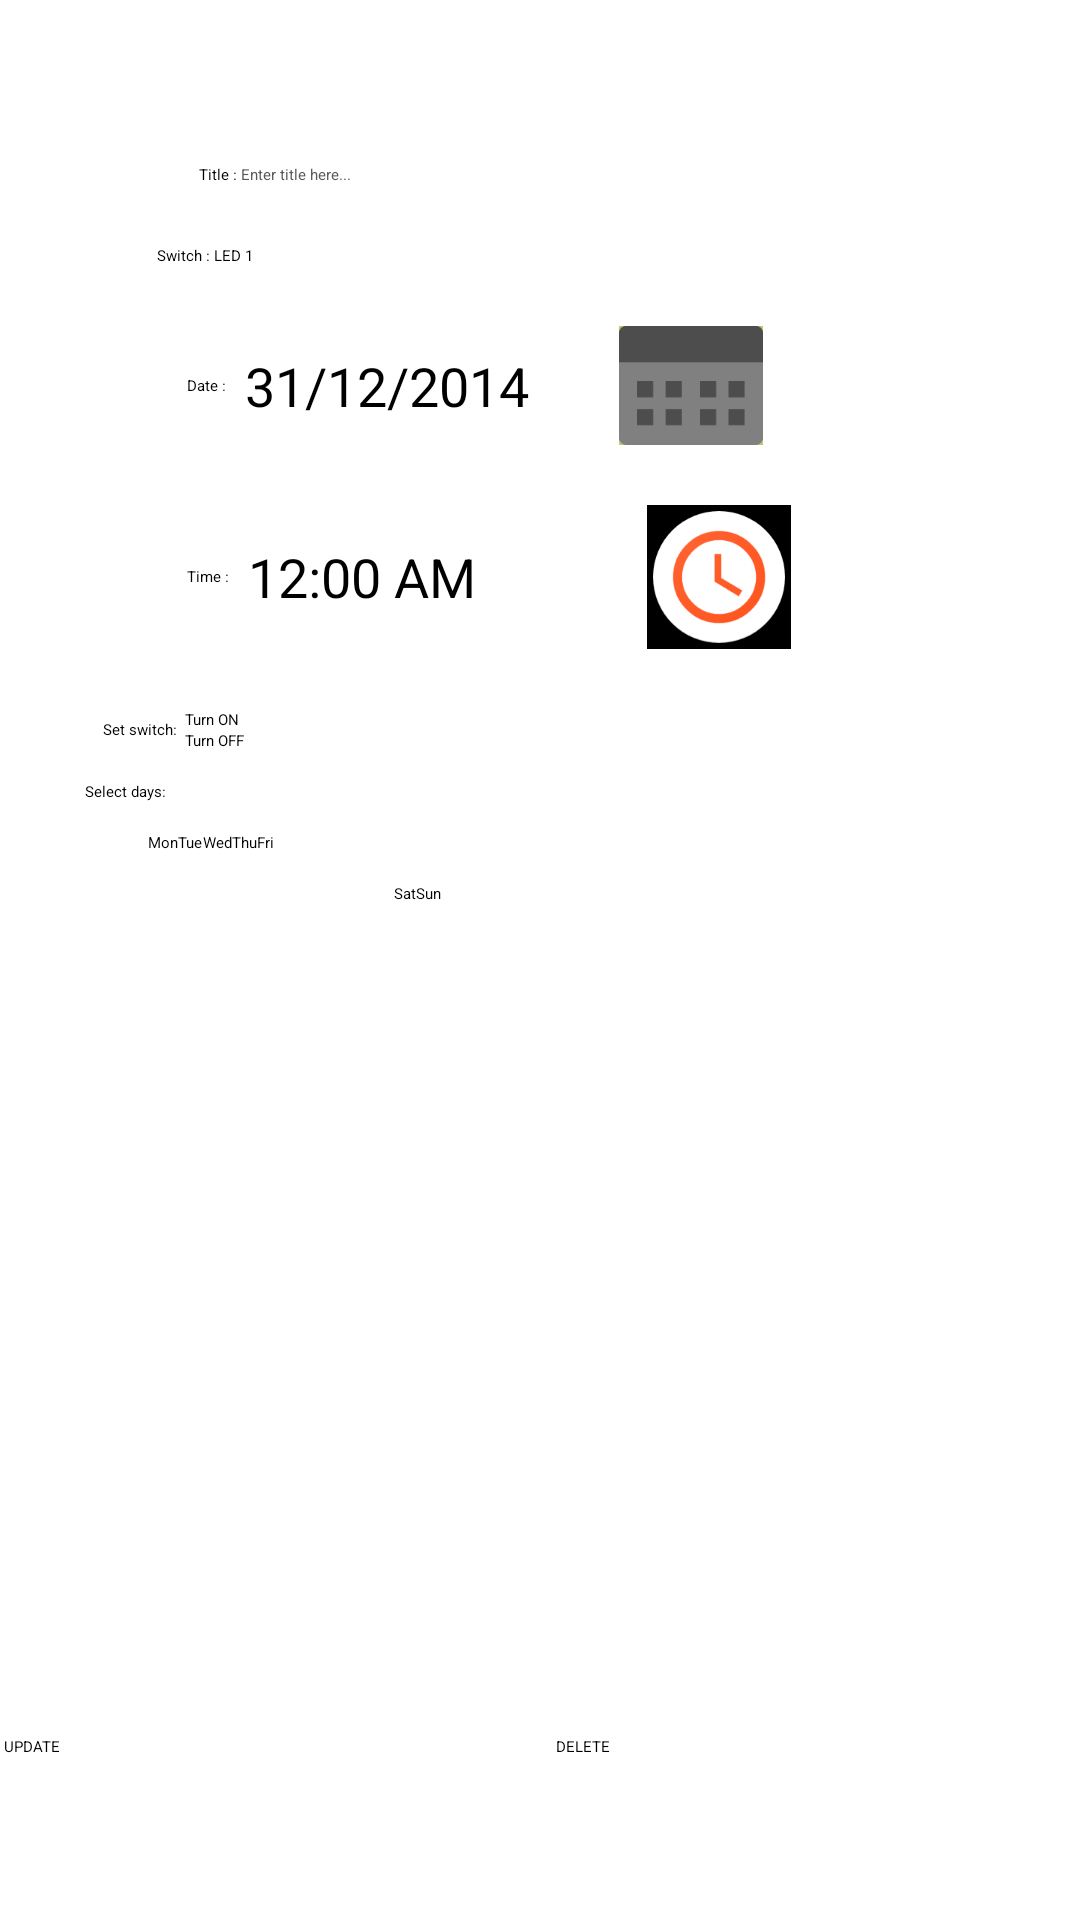

Where icons sit on this 1080px x 1920px app screen, as (x1, y1, x2, y2):
alarm: (647, 505, 791, 649)
calendar: (619, 326, 763, 445)
